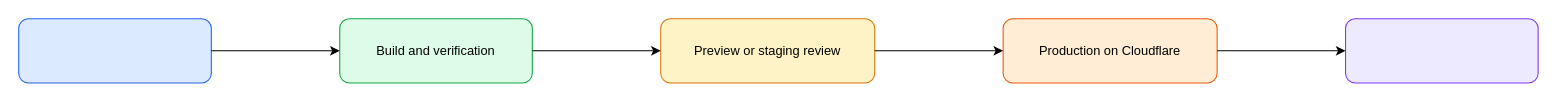
The diagram is 1557 pixels wide and 102 high, and some of its shapes have lost their labels. Each missing label, with the centre of its shape:
Live Pages URLs: (x=1441, y=50)
Local development: (x=114, y=50)
